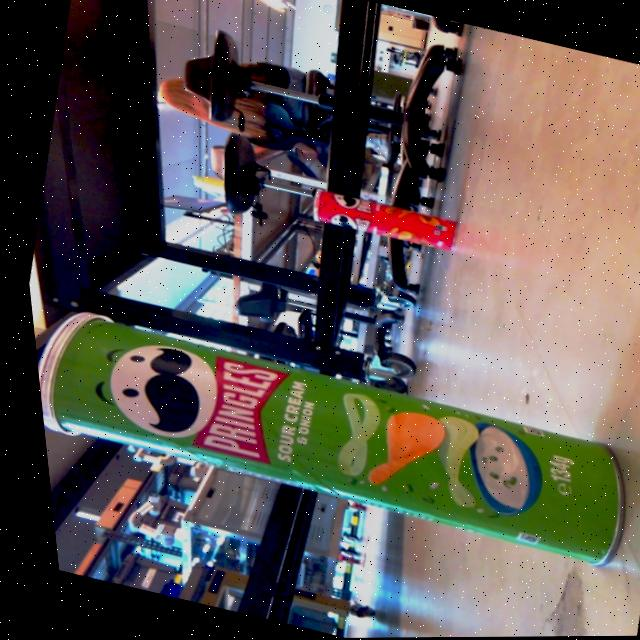greenpringles: (22, 262, 640, 579)
redpringles: (278, 169, 470, 263)
